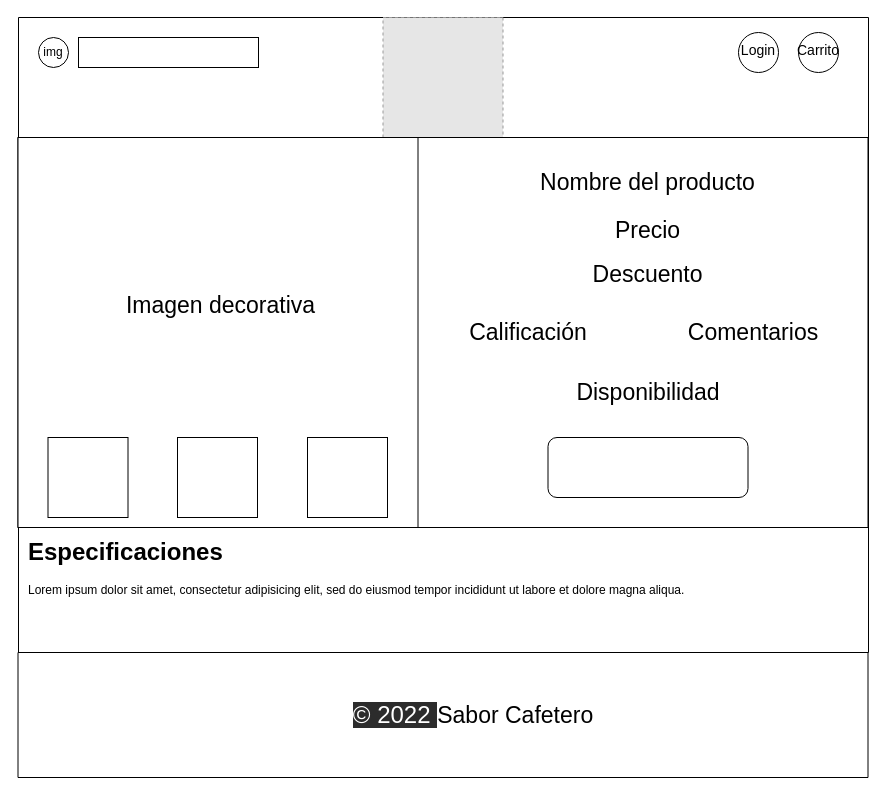
Image size: 886x795. Some labels were removed from this diagram. Grey dashed boxes stand in for pictures. The shapes that lost their labels are listed below. From the top down, each one's centre as x and y in pixels, then its label:
At point (168, 52): "Buscar".
At point (647, 467): "Agregar al carrito".
